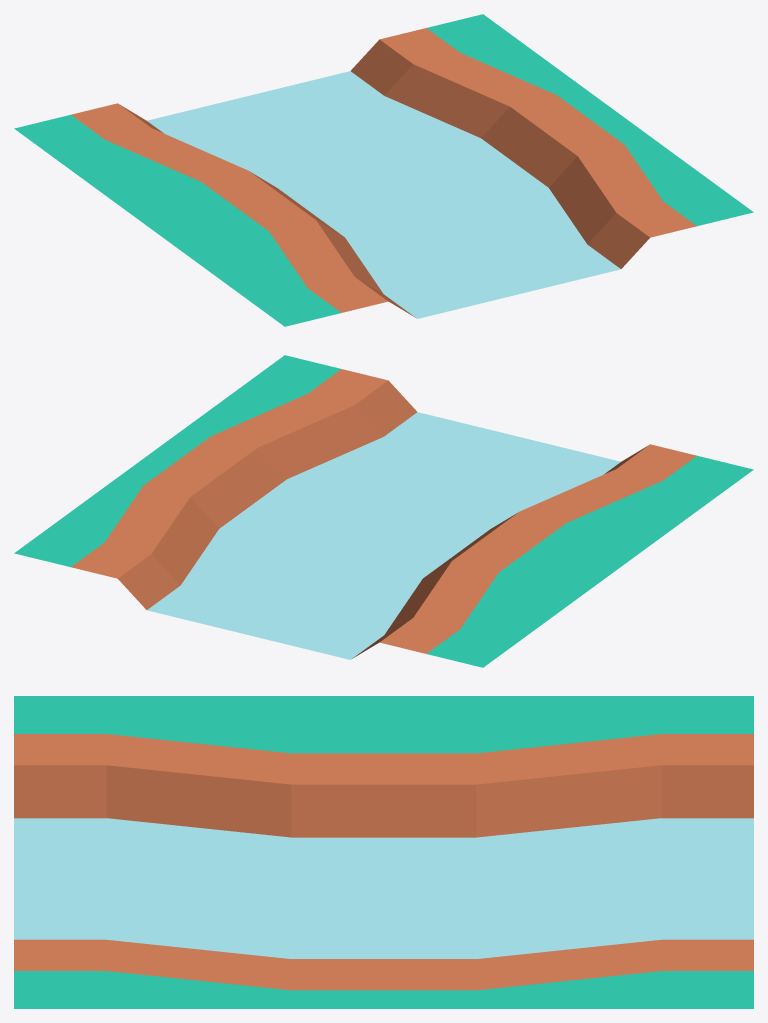
The model's file is riverStraight.obj.
3 views of the same model, one above another, from view 1: azimuth 30°, elevation 25°; view 2: azimuth 150°, elevation 25°; view 3: azimuth 270°, elevation 25° (orthographic). The views are drawn at different scales.
Bounding box in the file's own units: 1 × 0.05 × 1.
